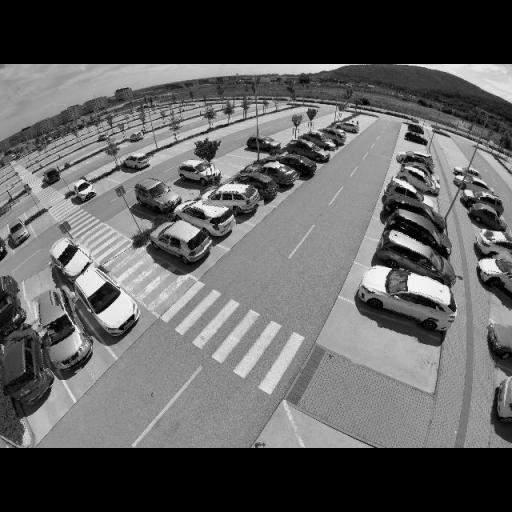busy: (354, 264, 454, 326), (24, 281, 92, 372), (75, 262, 138, 333), (1, 323, 50, 402), (376, 234, 445, 276), (150, 220, 213, 262), (176, 198, 237, 237), (201, 182, 263, 216), (383, 214, 444, 246), (0, 273, 27, 341), (50, 238, 92, 279), (135, 179, 179, 213), (479, 254, 512, 298), (232, 170, 280, 198), (491, 367, 512, 426), (176, 160, 220, 186), (390, 168, 437, 192), (384, 186, 435, 208), (252, 160, 298, 184), (486, 324, 512, 363), (394, 160, 436, 184), (279, 145, 324, 167), (477, 229, 512, 257), (468, 206, 506, 231), (461, 189, 502, 211), (284, 140, 327, 160), (274, 152, 316, 172), (297, 132, 340, 150), (248, 136, 284, 154), (396, 151, 432, 169), (120, 153, 154, 172), (6, 221, 31, 245), (71, 178, 97, 200), (316, 128, 345, 142), (402, 132, 428, 145), (40, 169, 61, 185), (332, 123, 360, 135), (128, 132, 142, 142)
free: (348, 320, 418, 364), (16, 262, 64, 304), (486, 281, 512, 331), (170, 173, 198, 205), (400, 144, 429, 156), (214, 164, 234, 178), (248, 147, 267, 160), (232, 156, 250, 169)
